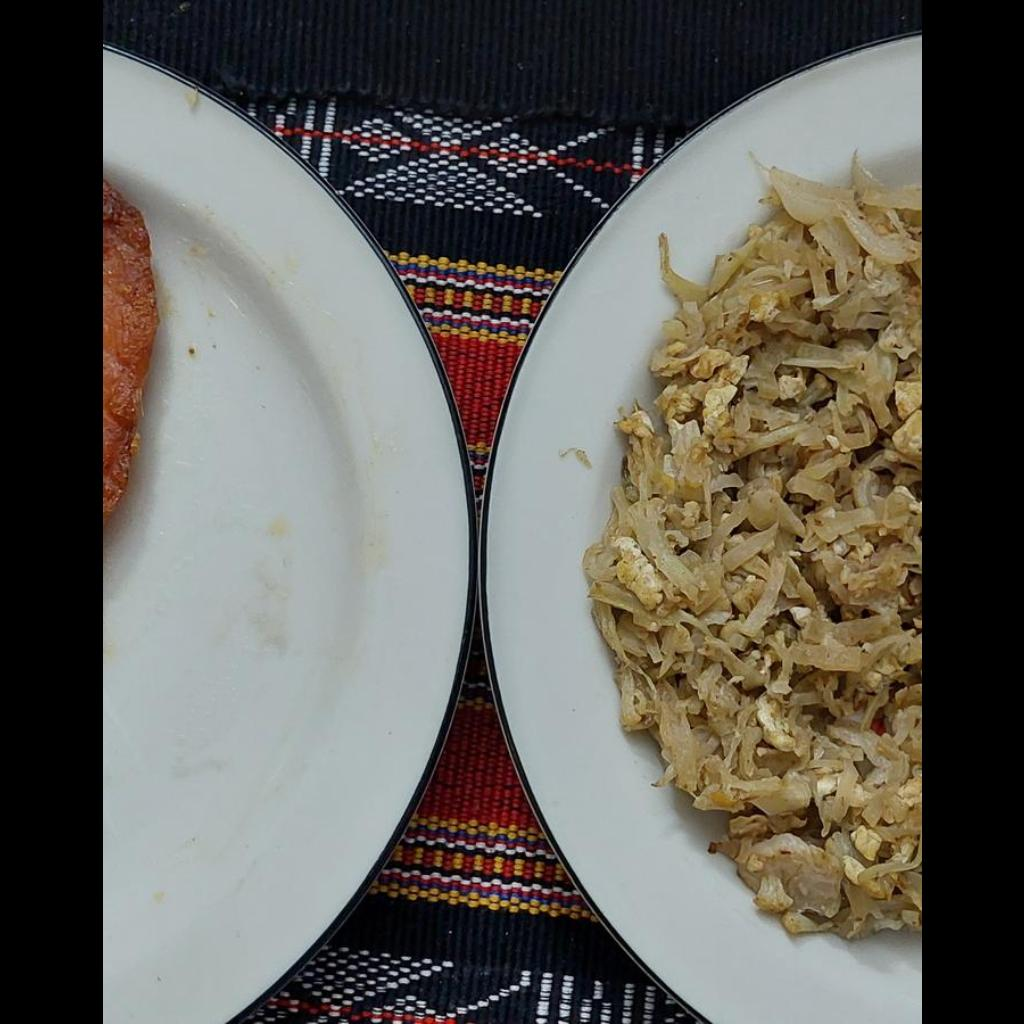chicken: (102, 181, 157, 522)
vaji: (584, 169, 920, 932)
